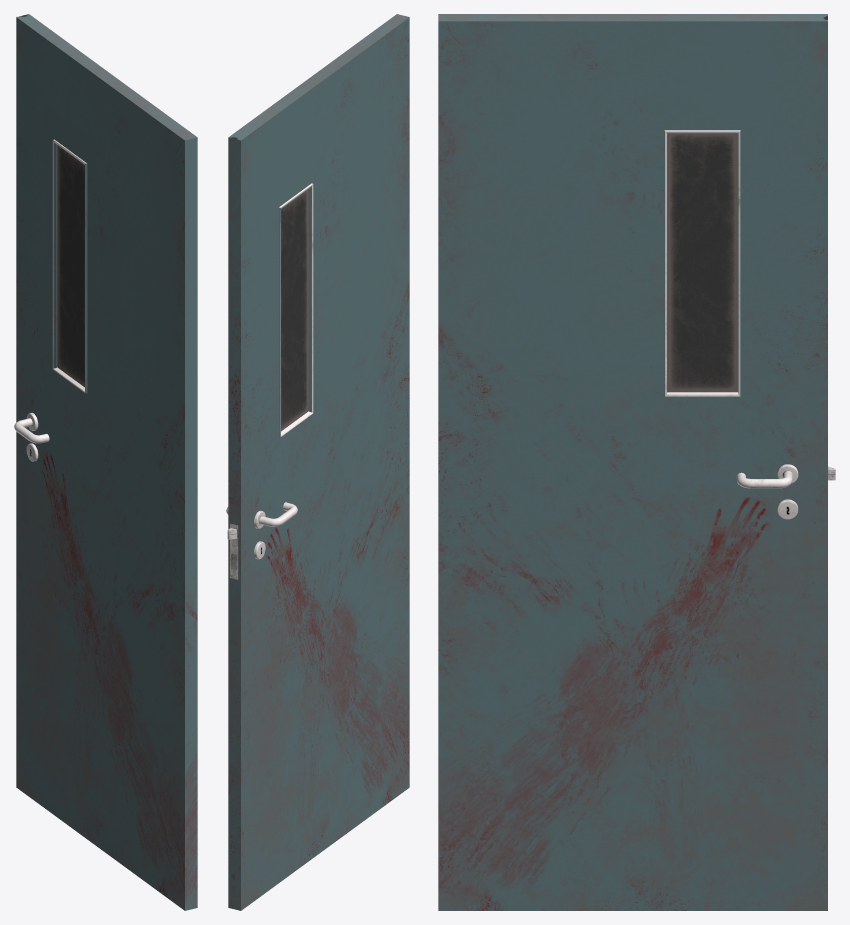
The model's file is hospital_door.fbx.
3 views of the same model, side by side, from view 1: azimuth 30°, elevation 25°; view 2: azimuth 150°, elevation 25°; view 3: azimuth 270°, elevation 25° (orthographic). The views are drawn at different scales.
Visible parts, largest first — view 1: polySurface449; view 2: polySurface449; view 3: polySurface449.
Boxes of the visible parts, x1=… form: polySurface449: x1=14, y1=14, x2=197, y2=910; polySurface449: x1=226, y1=14, x2=409, y2=910; polySurface449: x1=438, y1=14, x2=835, y2=910.
Size of the model in its own units: 142 by 1858 by 752.
